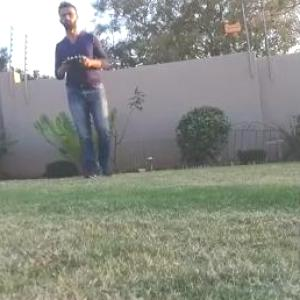follow: (49, 0, 127, 184)
